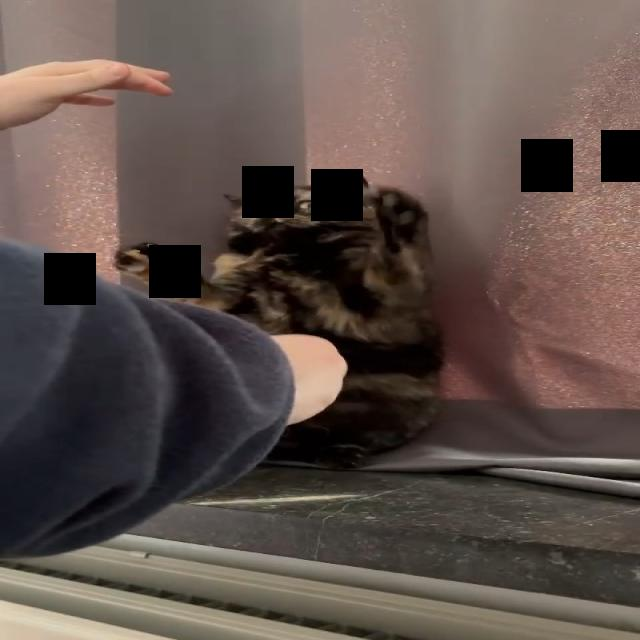authorized: (211, 173, 445, 469), (112, 241, 243, 312)
